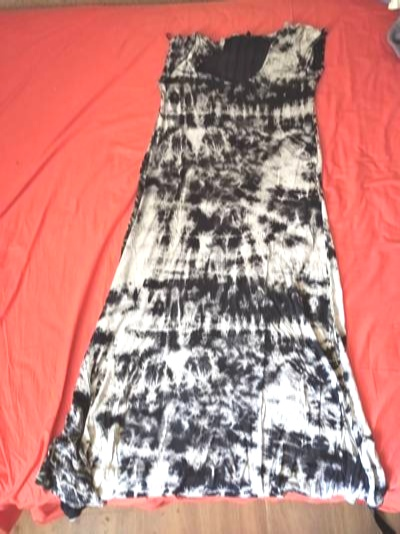Dress: (31, 2, 387, 514)
